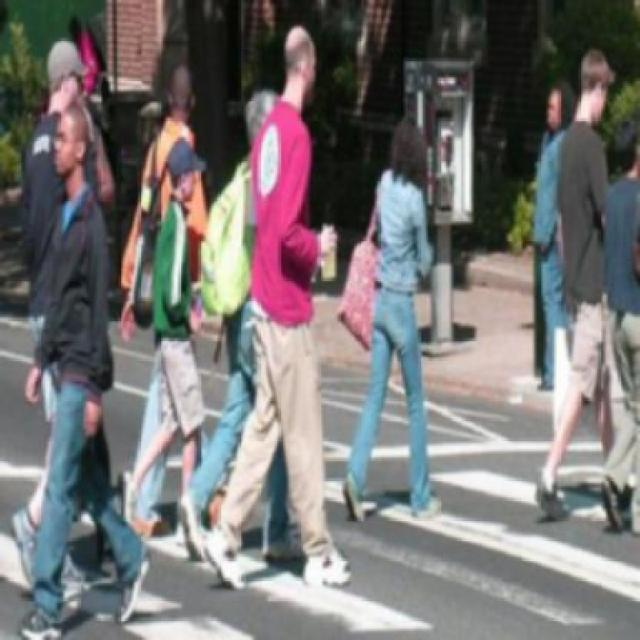obstacle: (207, 20, 359, 589), (19, 102, 147, 635), (347, 113, 450, 524), (125, 138, 202, 539), (556, 47, 610, 521), (604, 119, 638, 543)
